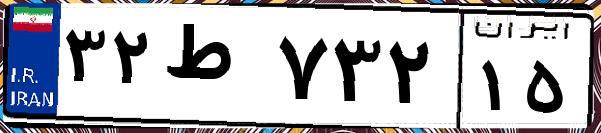1: (475, 38, 525, 113)
2: (385, 28, 445, 110), (110, 28, 158, 98)
3: (330, 28, 385, 110), (57, 26, 110, 100)
5: (525, 38, 570, 115)
7: (270, 28, 330, 110)
ط: (158, 20, 270, 120)
